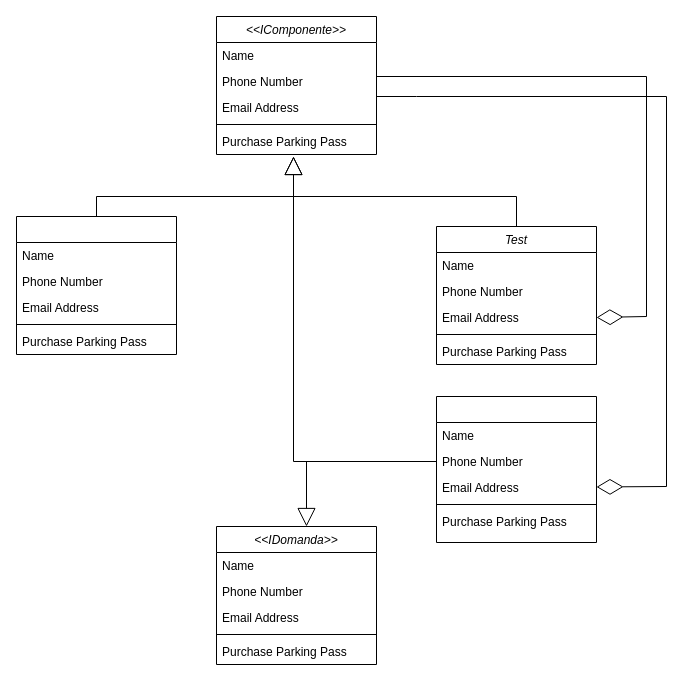
Some shapes in this 683 by 681 pixel diagram are drawn without their labels. The shapes that lost their labels are listed below. From the top down, each one's box as (x1, y1, x2, y2) in pixels, then its label:
(16, 216, 176, 354): Risposta
(436, 396, 596, 542): Domanda
